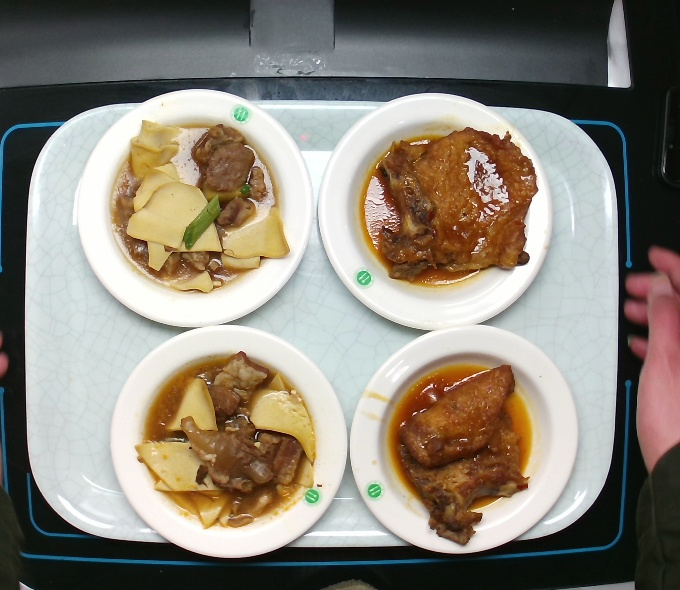wcq-DaPai: (368, 128, 547, 287), (400, 364, 545, 540)
wcq-QianZhangNiuRou: (99, 116, 287, 297), (136, 357, 323, 538)
